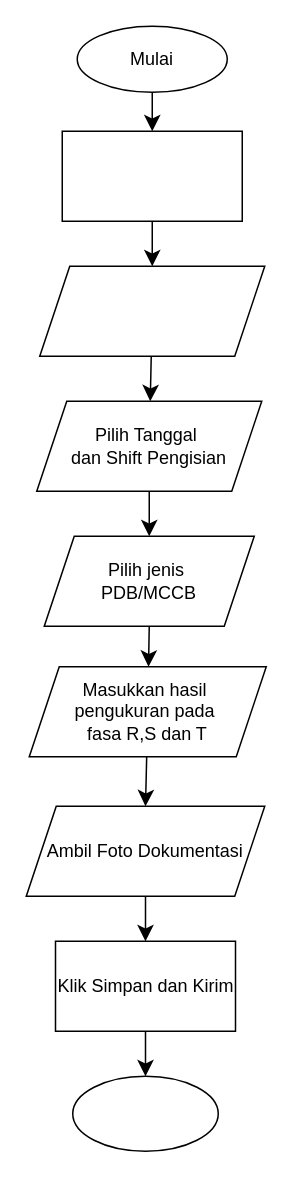
This 293x1178 diagram has some shape labels left out. Each missing label, with the box of its shape:
Buka link Form Metering: (61, 130, 242, 221)
Isi Nama dan Satuan Kerja, lalu Klik Masuk: (38, 265, 265, 356)
Selesai: (71, 1075, 218, 1151)
